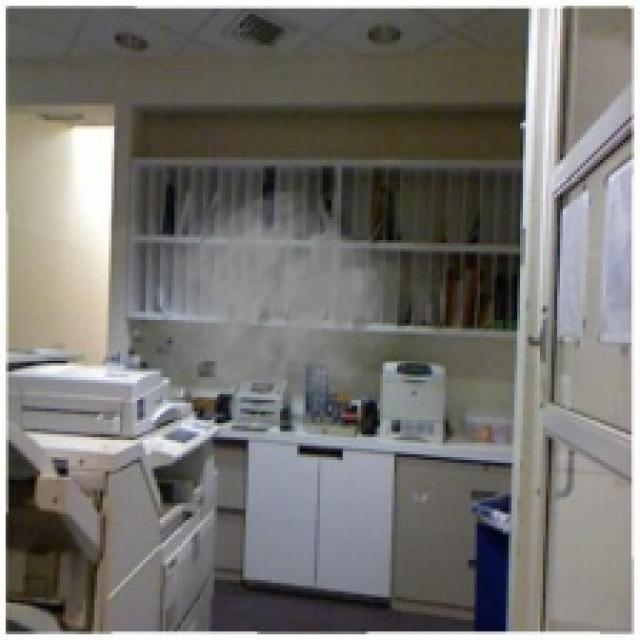Smoke: (160, 188, 406, 432)
